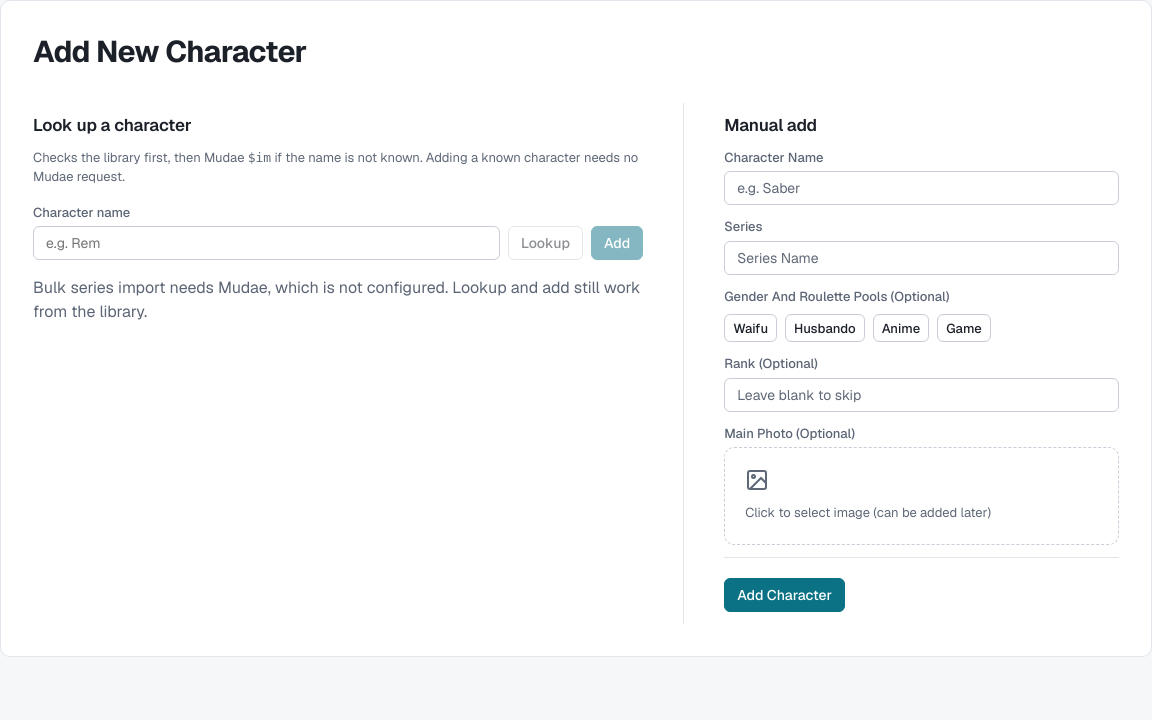
AddPage catalog integration › fills the series only when a name suggestion is picked, not when typed
This screenshot has width=1152, height=720.
Type "Sab" into the dropdown labelled "Character Name" at (922, 188), box [724,171,1119,205]
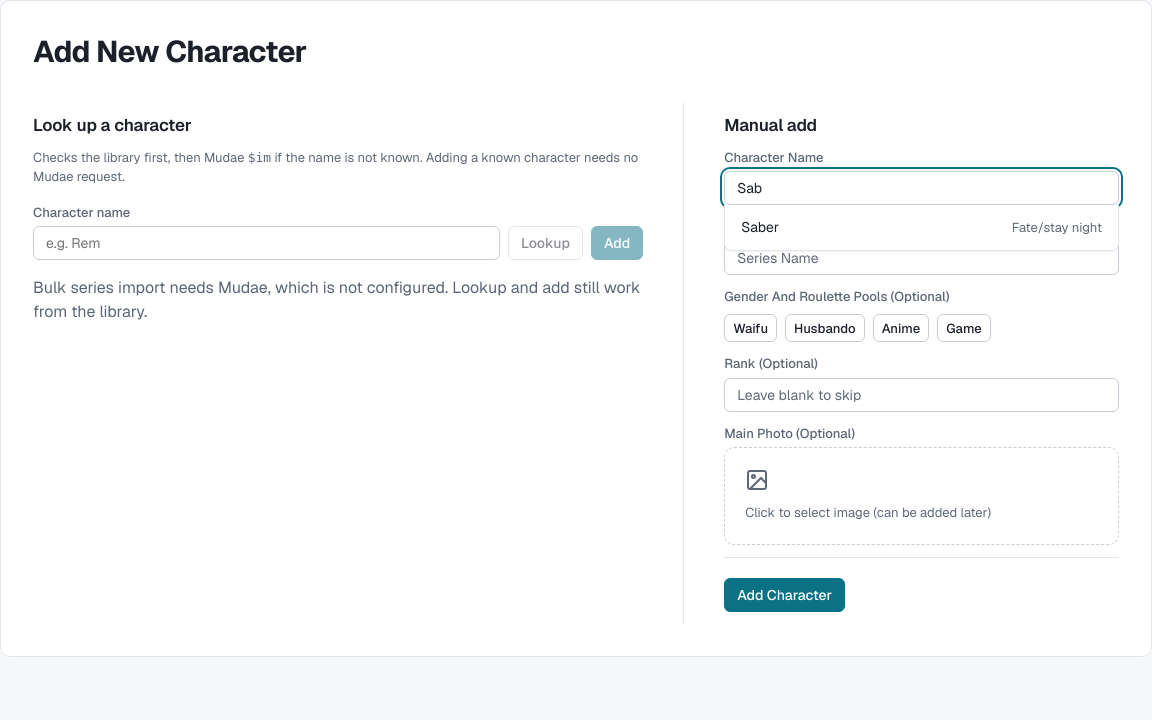
Check: the dropdown labelled "Series" is empty, box [724,241,1119,275]
Click the option "Saber Fate/stay night" at (760, 227), box [725,205,1118,250]
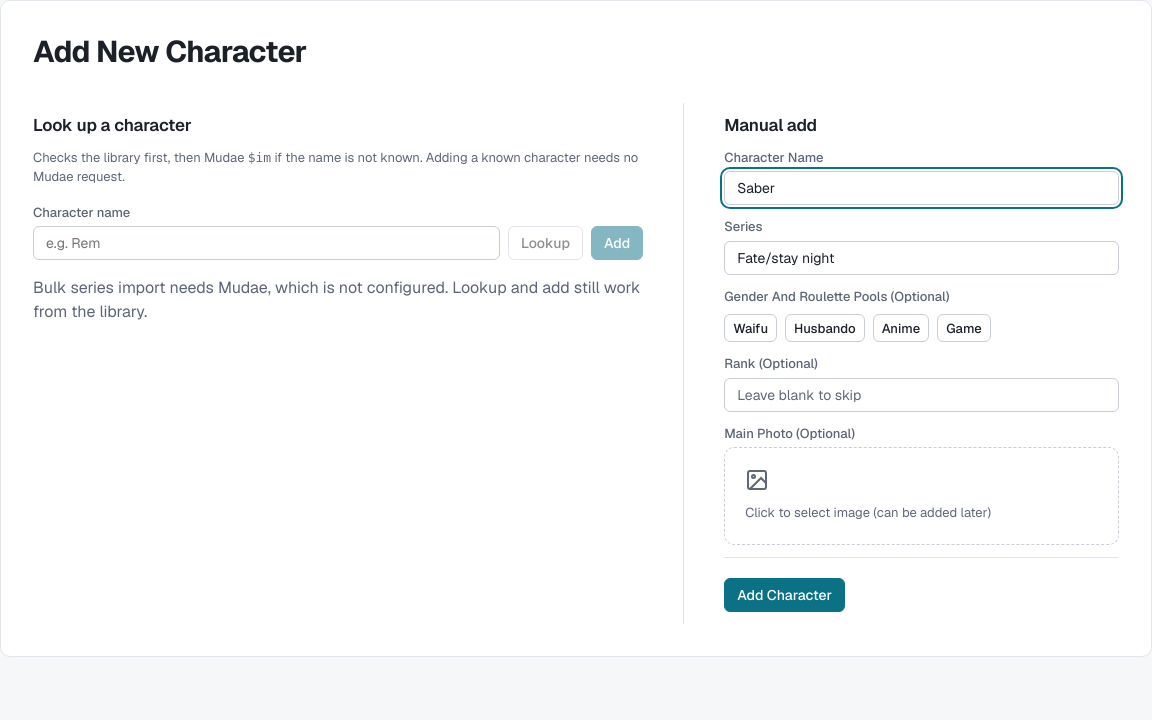
Check: the dropdown labelled "Series" holds "Fate/stay night", box [724,241,1119,275]
